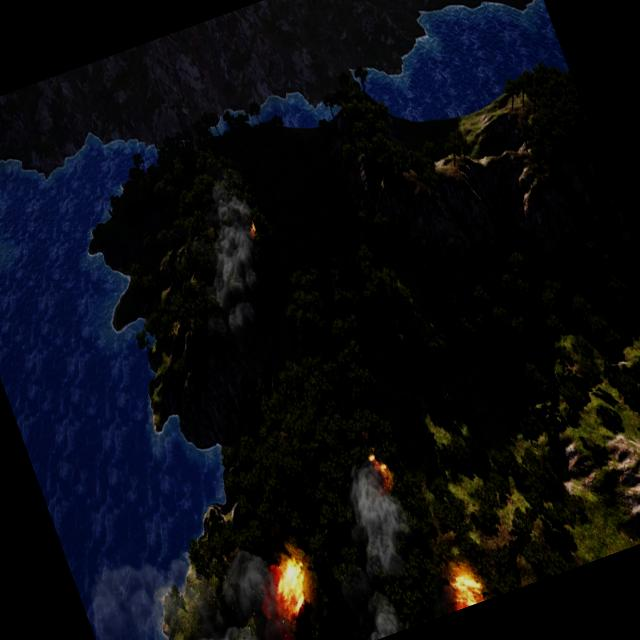fire: (262, 549, 320, 622), (444, 565, 487, 611), (367, 451, 399, 494), (245, 222, 262, 242)
smoke: (268, 449, 460, 640), (75, 517, 311, 640), (166, 172, 291, 345)
